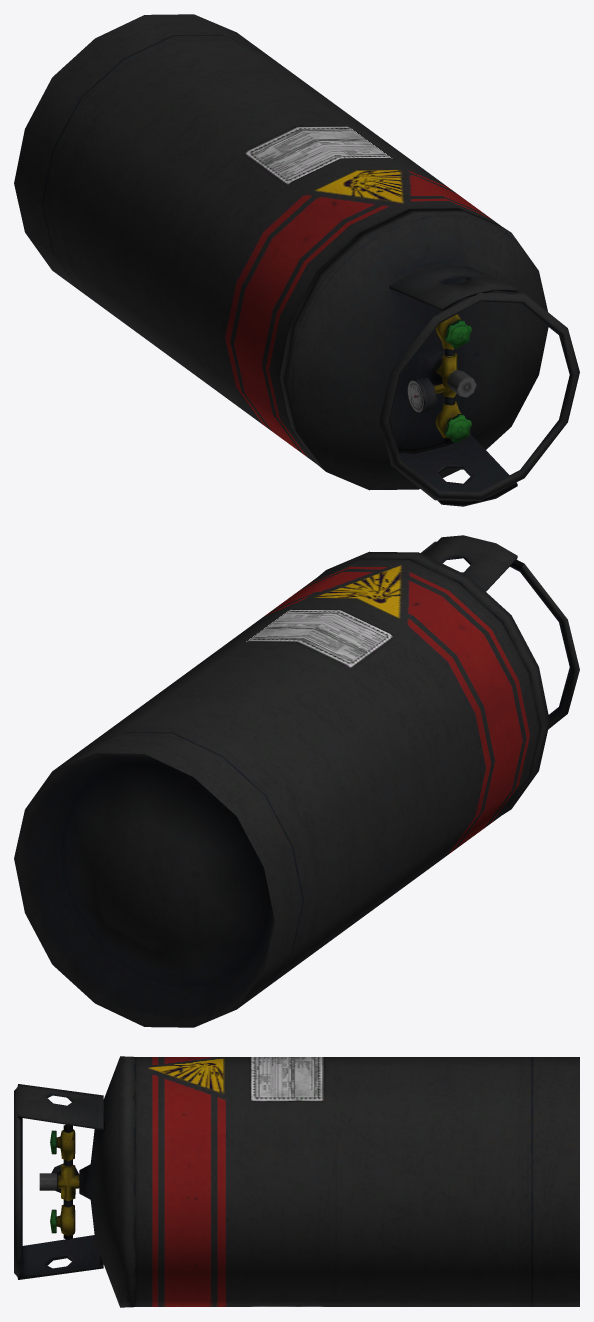
File: p6_nitrogen_tank_new_LOD1.obj
3 renders of one model, top to bottom at view 1: azimuth 30°, elevation 25°; view 2: azimuth 150°, elevation 25°; view 3: azimuth 270°, elevation 25°, orthographic. The views are drawn at different scales.
Parts seen in each view (by area): view 1: mtl_p6_nitrogen_tank_new; view 2: mtl_p6_nitrogen_tank_new; view 3: mtl_p6_nitrogen_tank_new.
Part boxes in pixels (bbox=[...]): mtl_p6_nitrogen_tank_new: bbox=[14, 14, 579, 506]; mtl_p6_nitrogen_tank_new: bbox=[14, 535, 579, 1027]; mtl_p6_nitrogen_tank_new: bbox=[14, 1056, 579, 1307].
Bounding box in the file's own units: 71.92 × 71.92 × 160.
